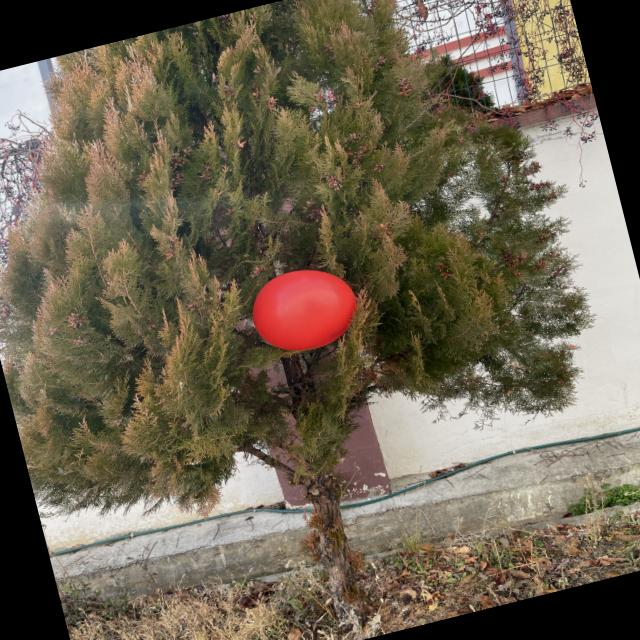balloon: (252, 270, 356, 350)
